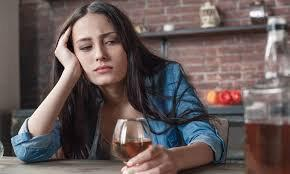Drunk: (73, 18, 128, 84)
